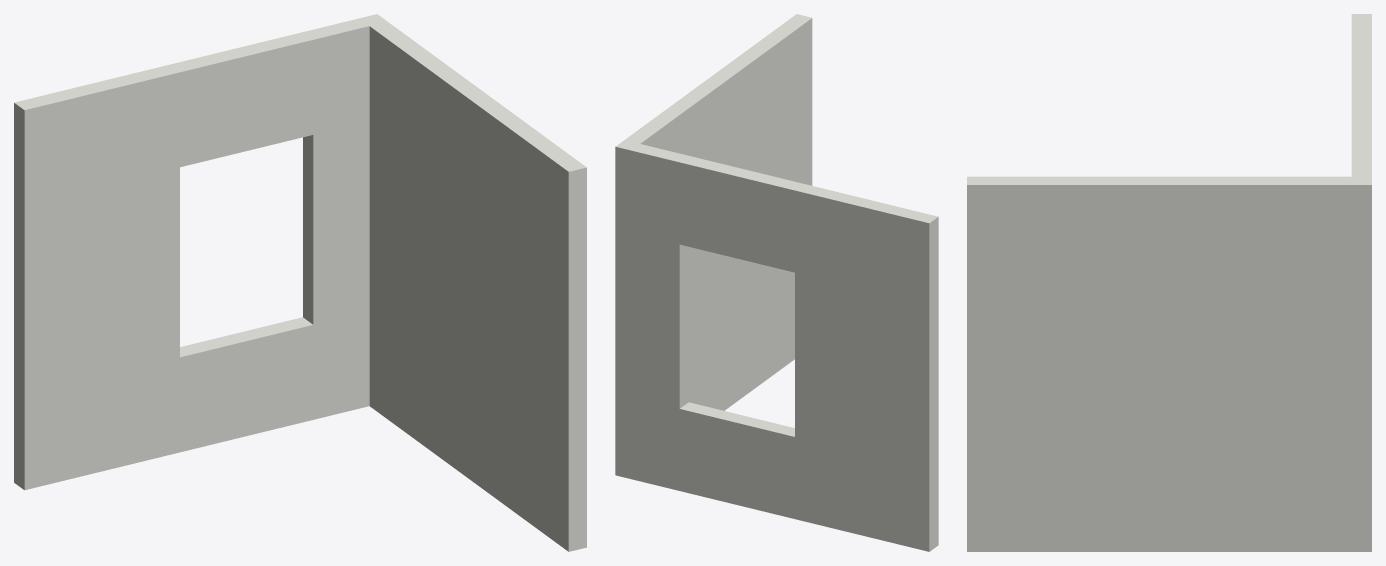
Rendered from Wal_1_10.fbx.
3 views of the same model, side by side, from view 1: azimuth 30°, elevation 25°; view 2: azimuth 150°, elevation 25°; view 3: azimuth 270°, elevation 25° (orthographic). The views are drawn at different scales.
Visible parts, largest first — view 1: polySurface7; view 2: polySurface7; view 3: polySurface7.
Boxes of the visible parts, x1,y1,x2,y2 form: polySurface7: (14, 14, 586, 551); polySurface7: (615, 14, 938, 551); polySurface7: (967, 14, 1371, 551).
Bounding box in the file's own units: 4 × 4 × 4.
Materials: 1 (1 with a texture image).
